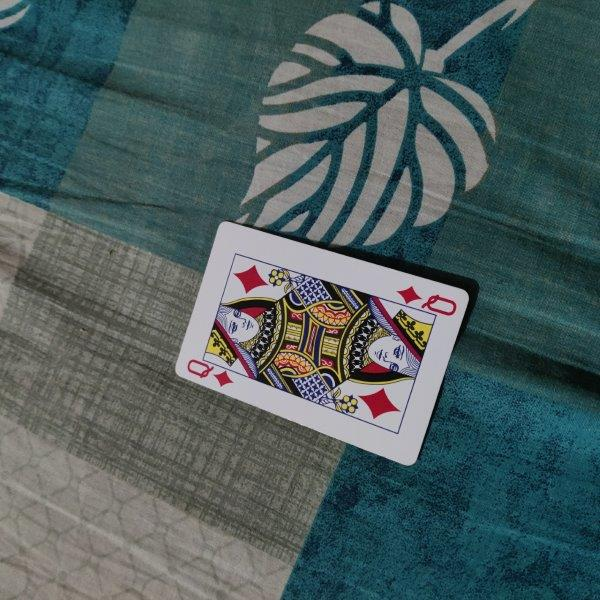Queen of Diamonds: (175, 221, 470, 469)
